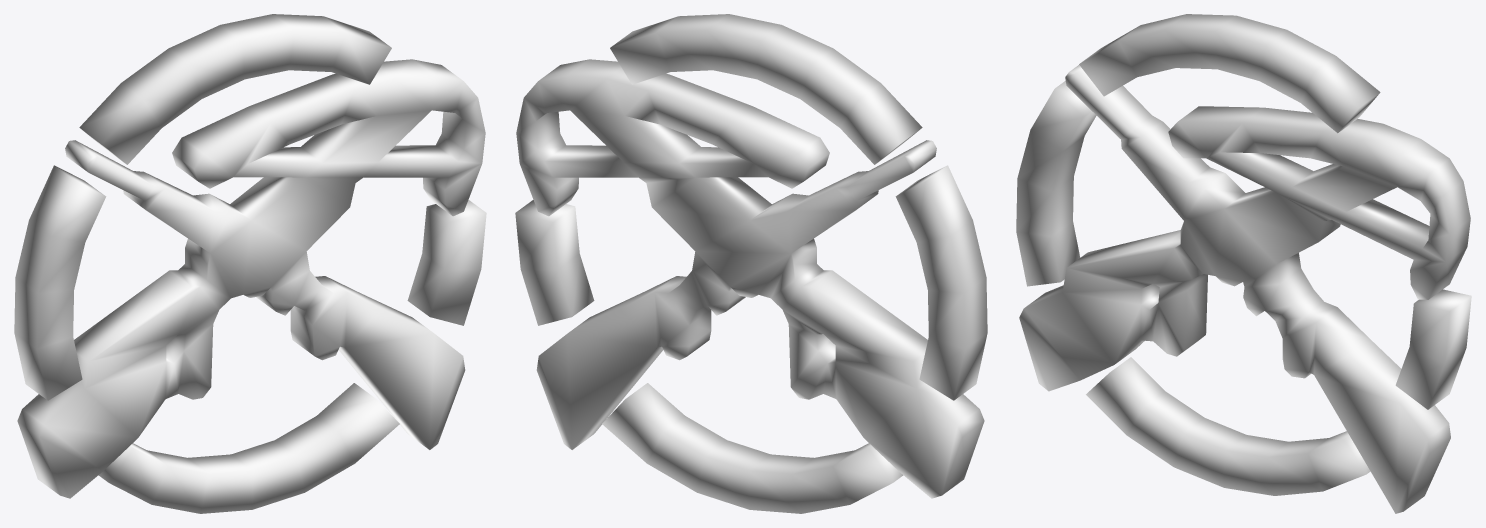
The model's file is delete.ico.obj.
The picture shows the model from 3 angles, left to right: view 1: azimuth 30°, elevation 25°; view 2: azimuth 150°, elevation 25°; view 3: azimuth 330°, elevation 25°; orthographic projection. The views are drawn at different scales.
Size of the model in its own units: 3.61 by 3.61 by 0.3145.
1 material, 1 textured.
